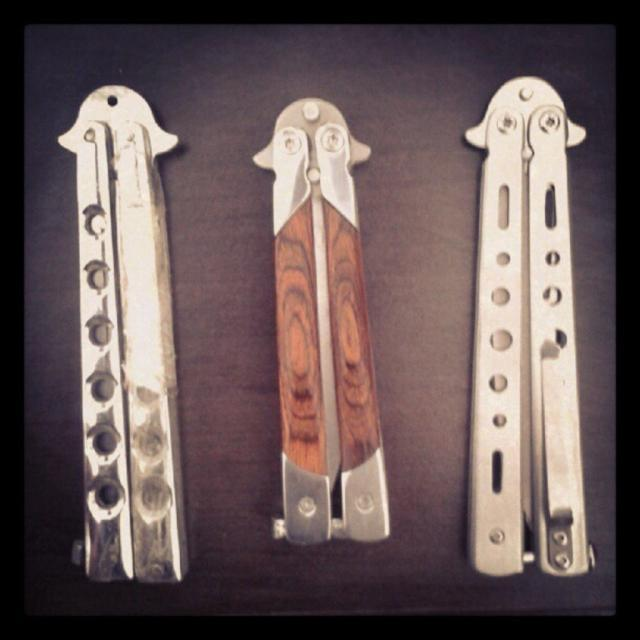Knife: (59, 86, 185, 581), (465, 78, 588, 576), (254, 99, 390, 544)
